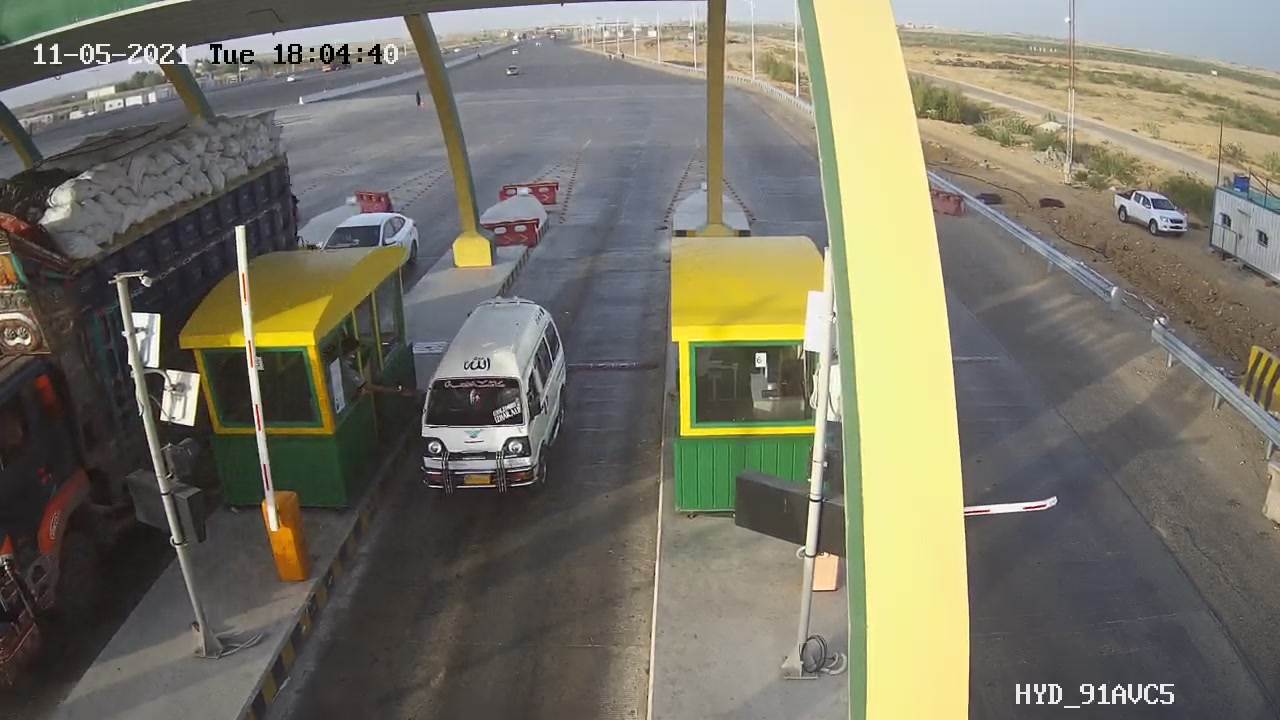F1: (402, 279, 589, 519)
